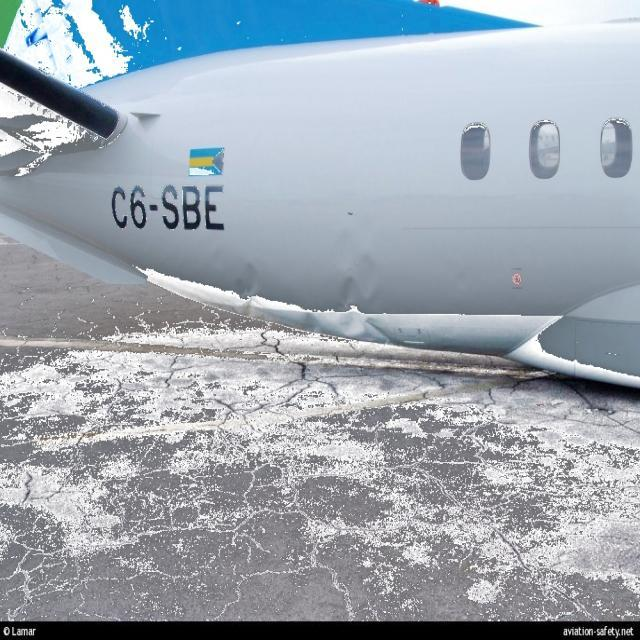dent: (303, 232, 390, 340), (226, 262, 276, 319)
